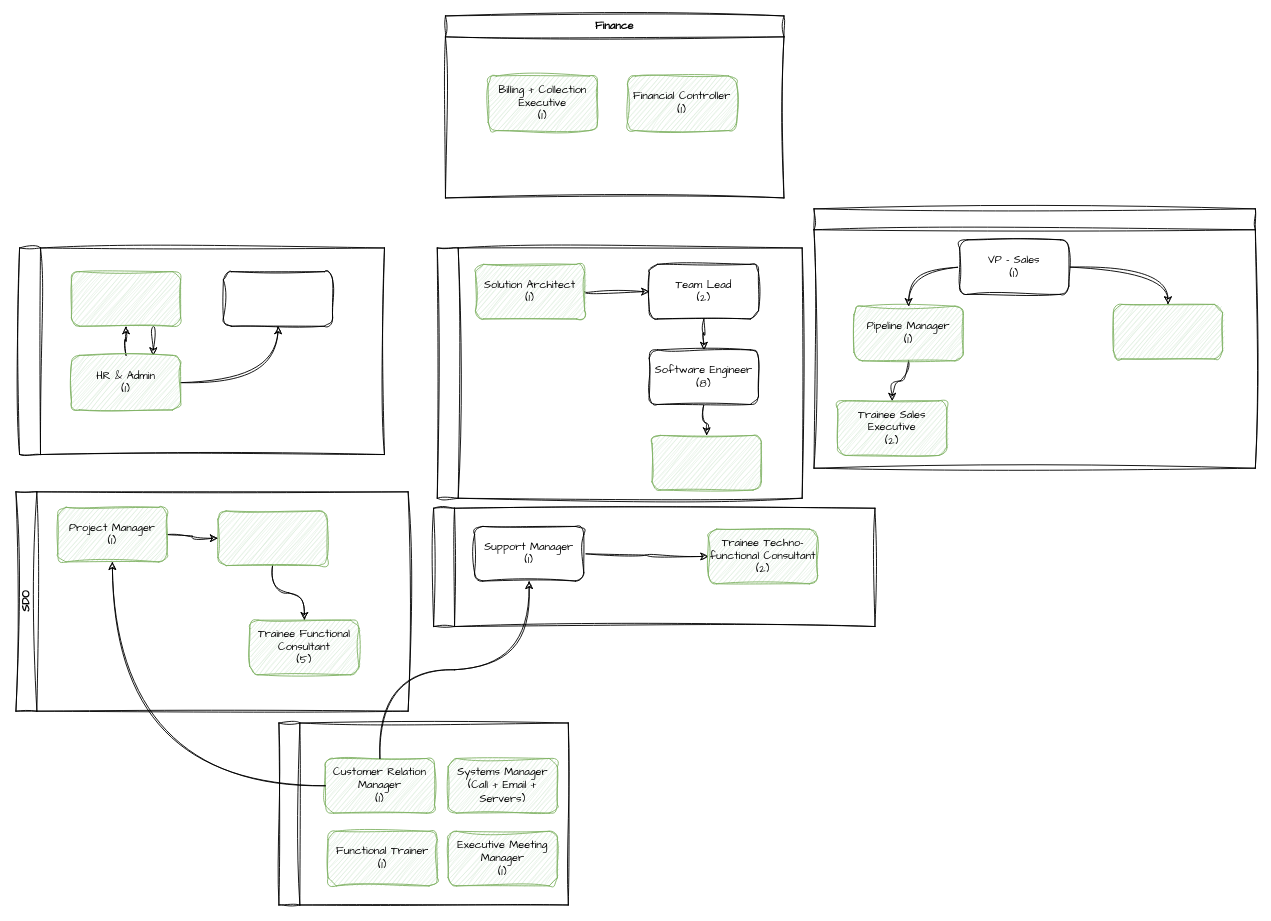
Image size: 1271x921. Some labels were removed from this diagram. Here are the shapes that lost their labels. From the top down, the box of each, then its label:
(71, 271, 181, 326): Recruiter (1)
(222, 271, 333, 326): Cleaning Staff (1)
(19, 247, 384, 455): Administrative Staff
(813, 208, 1255, 468): Sales & Marketing
(1112, 303, 1223, 359): Marketing + Content (1)
(436, 247, 802, 498): R&D
(651, 435, 761, 490): Trainee Software Engineer (4)
(217, 510, 327, 566): Functional Consultant (5)
(433, 507, 875, 627): CSG
(278, 722, 568, 905): MIS
